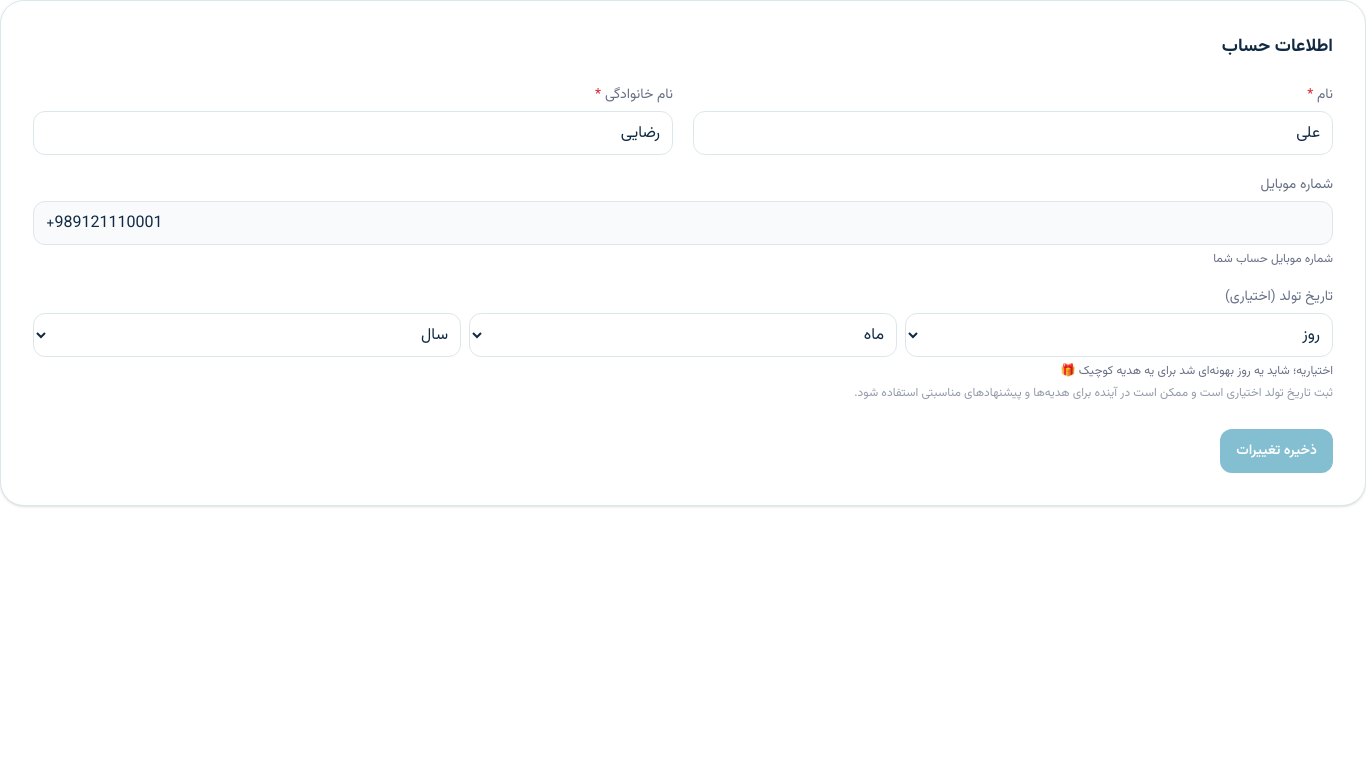
Test: ProfileSection › edits first/last name and saves successfully
This screenshot has width=1366, height=768.
Replace the text in the field labelled "نام" with "علی‌رضا" at (1013, 133), box top-left (693, 111), bottom-right (1333, 155)
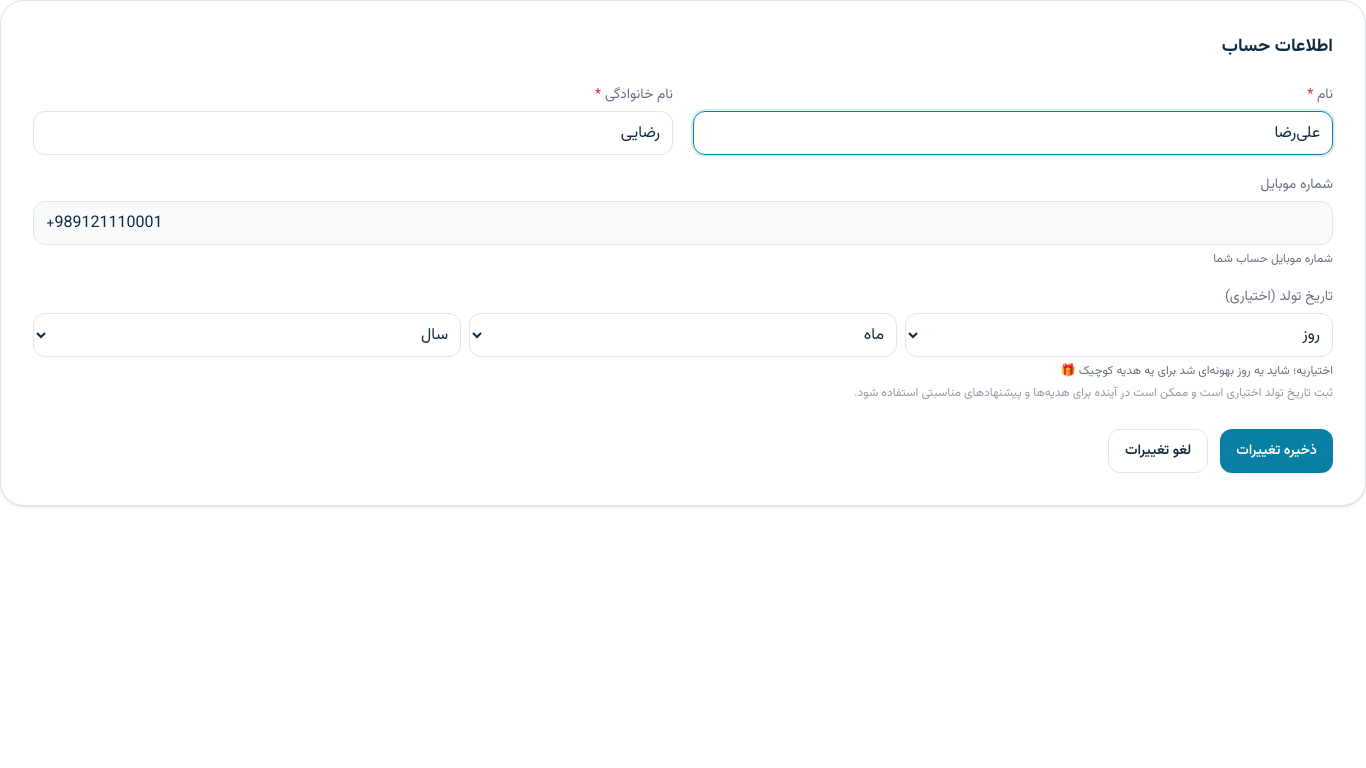
Click the button "ذخیره تغییرات" at (1277, 451), box top-left (1220, 429), bottom-right (1333, 473)
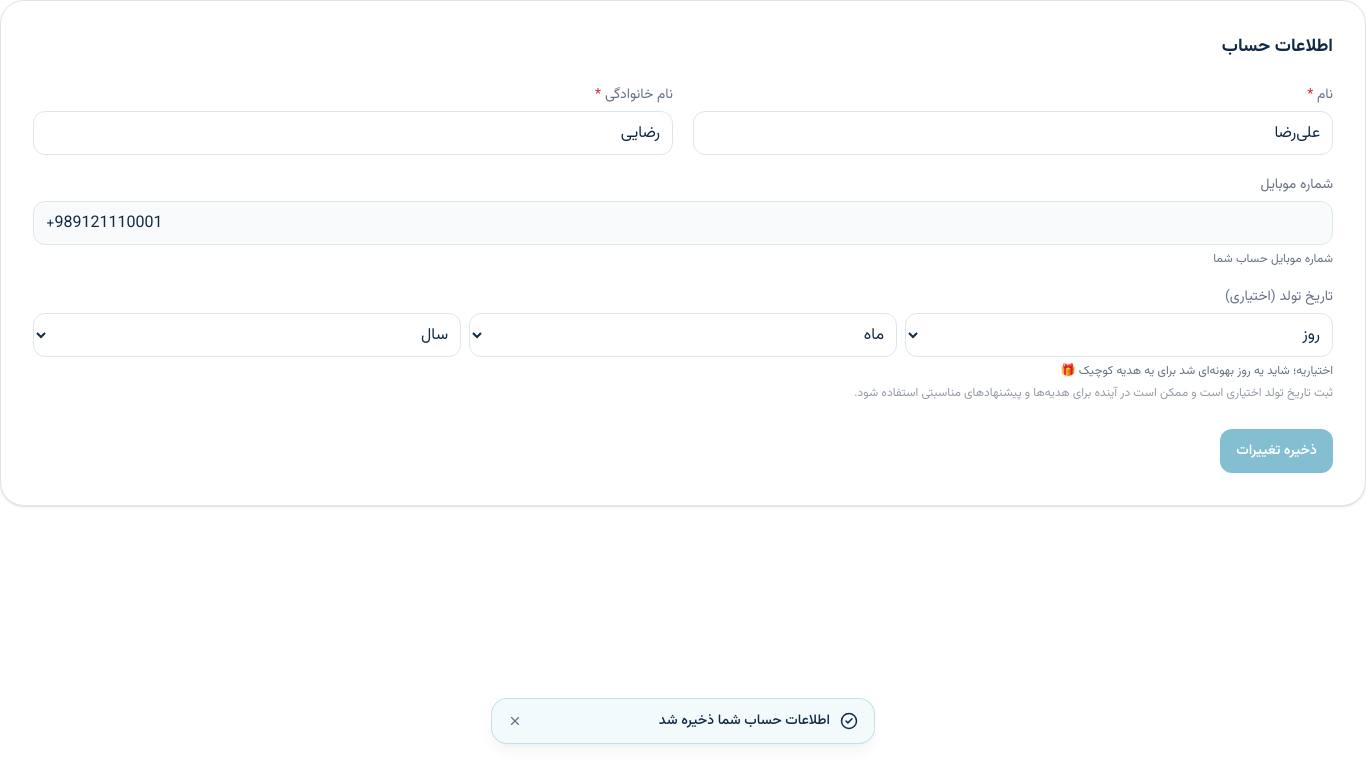
Result: the text "اطلاعات حساب شما ذخیره شد" is shown at top-left (659, 710), bottom-right (830, 732)
